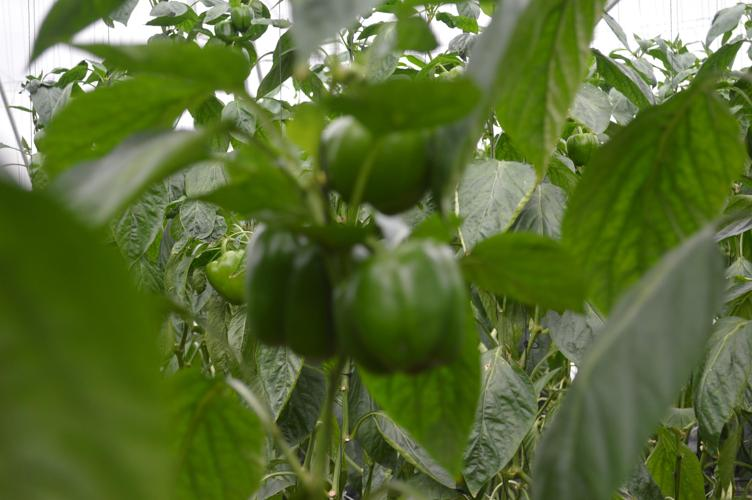BellPepper: (341, 239, 472, 377), (309, 98, 446, 217), (196, 238, 252, 308), (561, 127, 603, 167), (229, 3, 259, 35), (214, 19, 239, 43)
